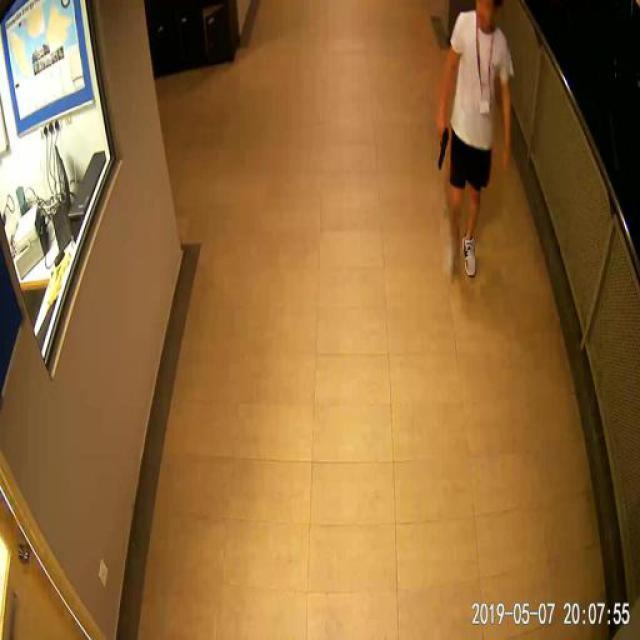weapon: (436, 115, 452, 173)
